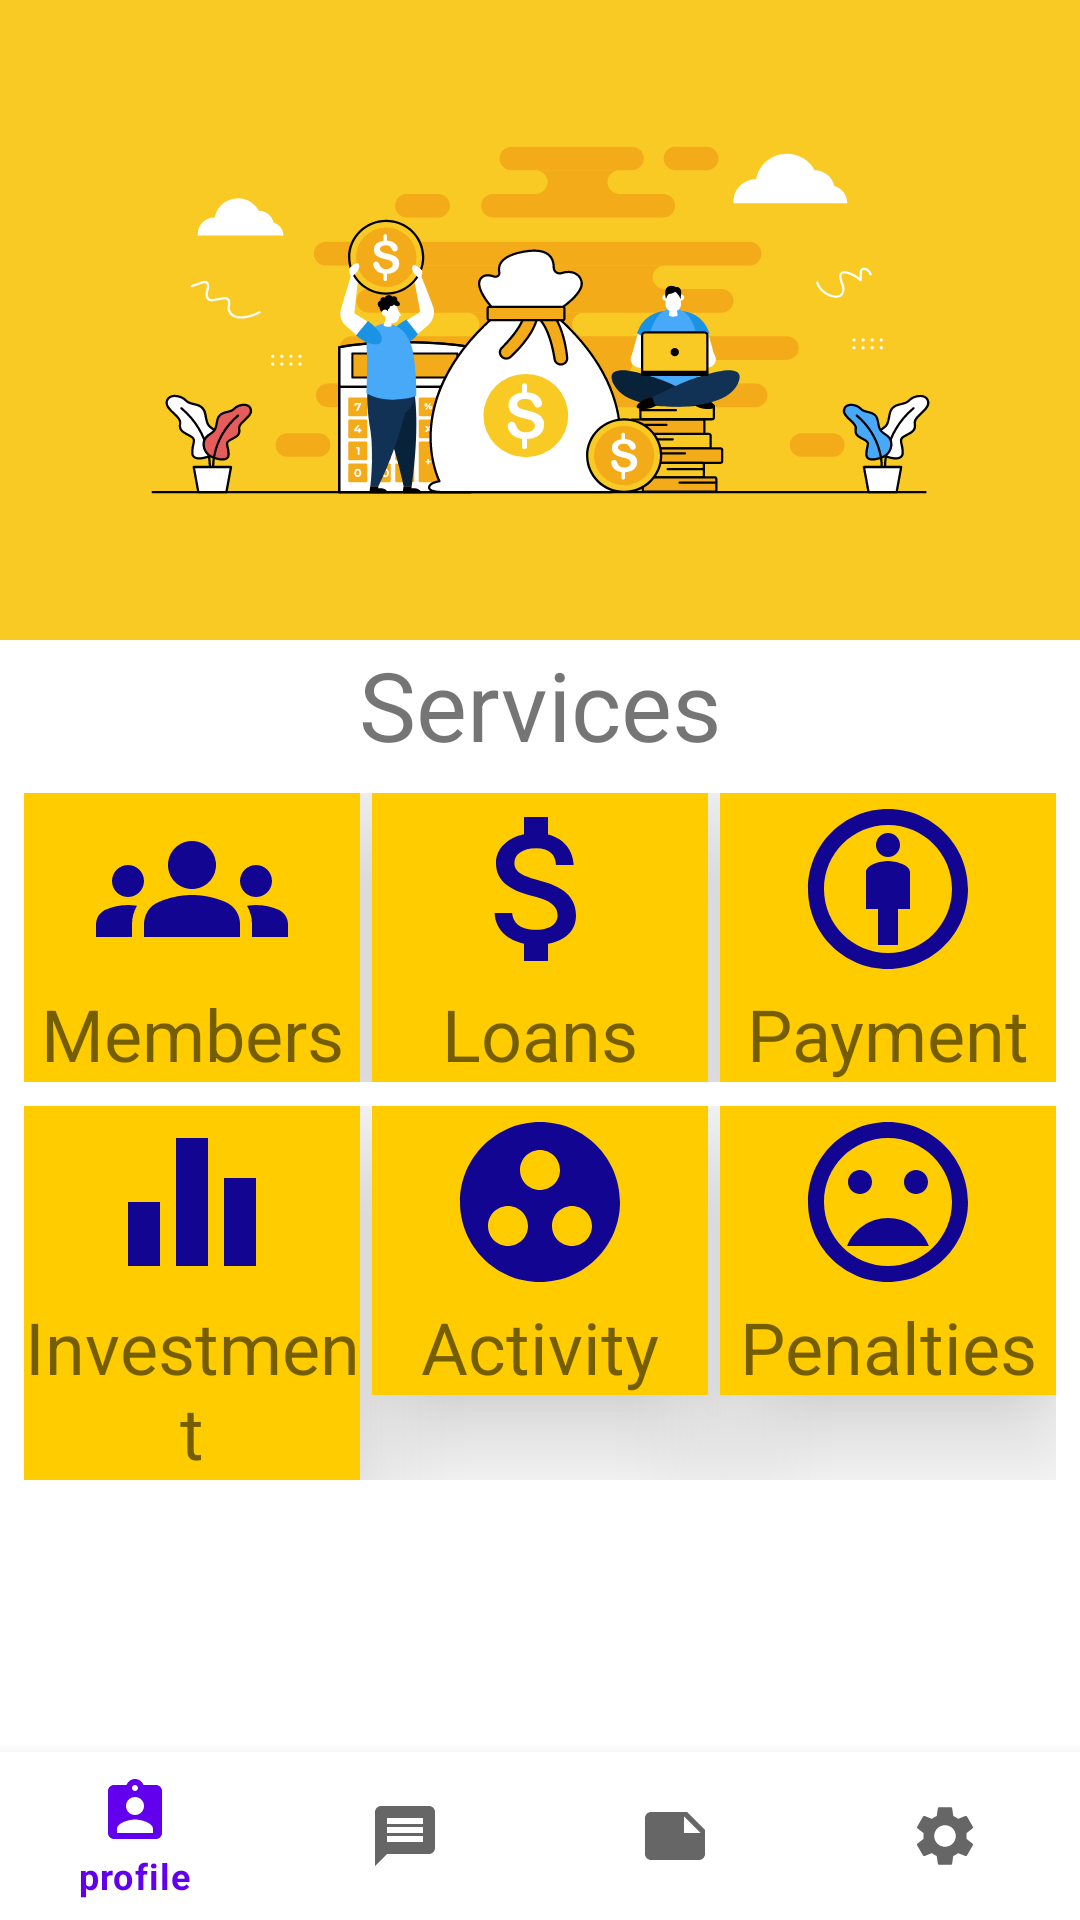

Screen size 1080×1920. Icon name, then its box in pixels as box=[x1, y1, x2, y2]:
attach money: box=[494, 817, 576, 961]
attribution: box=[808, 809, 968, 969]
equalizer: box=[128, 1138, 256, 1266]
group work: box=[460, 1122, 620, 1282]
groups: box=[96, 841, 288, 937]
mood bad: box=[808, 1122, 968, 1282]
